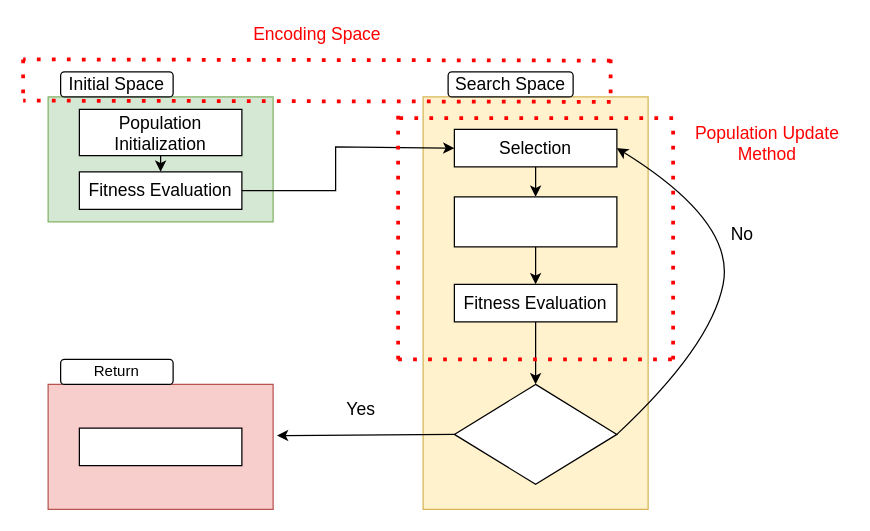
Some shapes in this 870 by 531 pixel diagram are drawn without their labels. The shapes that lost their labels are listed below. From the top down, each one's centre as x and y in pixels, then its label:
At point (535, 221): "Evolutionary Operations".
At point (160, 446): "Last Population".
At point (535, 433): "Stopping Criteria?".
